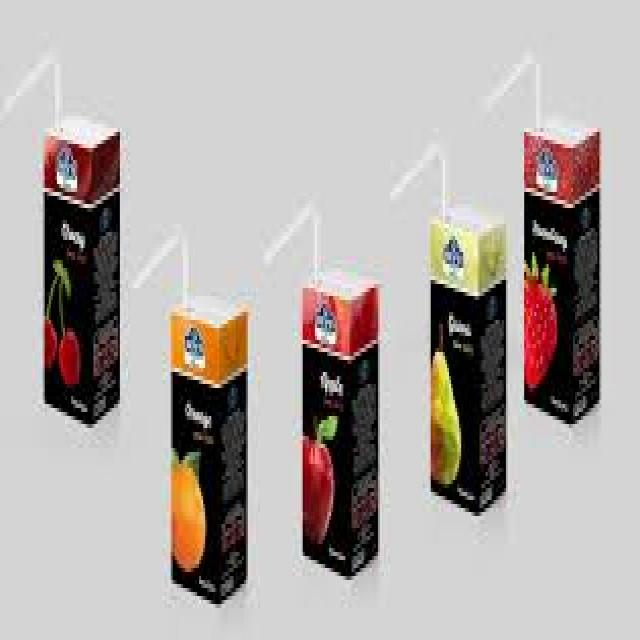non_white_jug: (510, 106, 614, 426), (36, 104, 133, 436), (159, 278, 253, 618), (420, 196, 515, 532), (294, 242, 385, 590)
